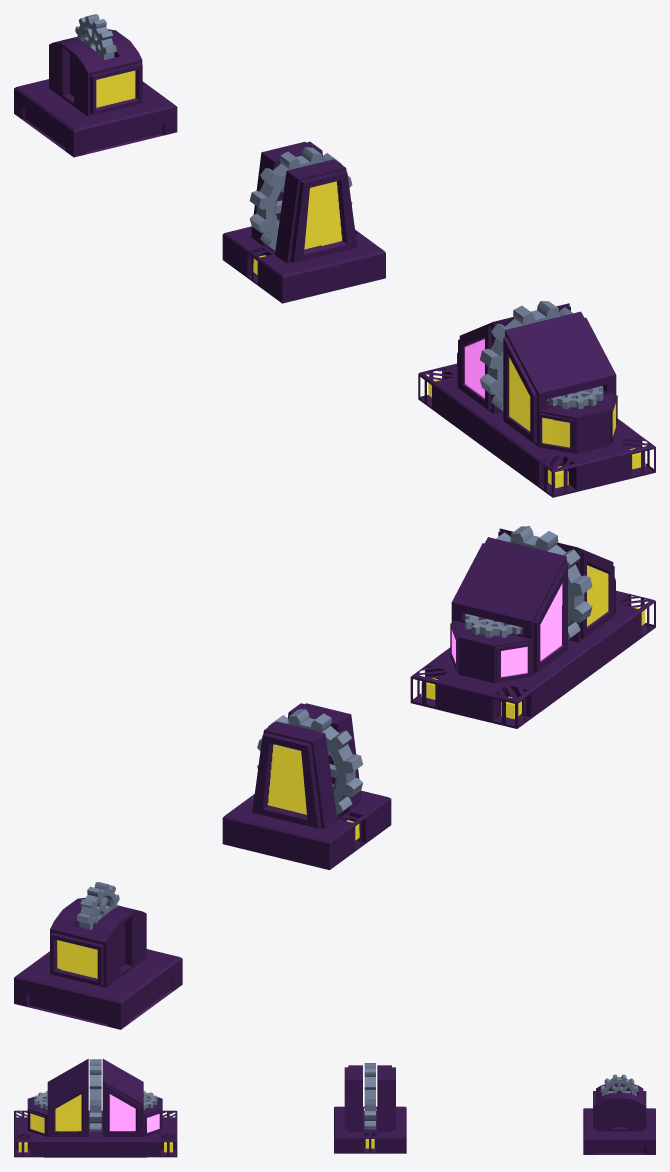
The model's file is Generators_pack_V2_UVFix.gltf.
3 views of the same model, one above another, from view 1: azimuth 30°, elevation 25°; view 2: azimuth 150°, elevation 25°; view 3: azimuth 270°, elevation 25° (orthographic). The views are drawn at different scales.
Parts seen in each view (by area): view 1: Gen_3, Gen_2, Gen_1; view 2: Gen_3, Gen_2, Gen_1; view 3: Gen_3, Gen_2, Gen_1.
Boxes of the visible parts, <box> form: Gen_3: <box>418,301,655,497</box>; Gen_2: <box>222,141,385,303</box>; Gen_1: <box>14,14,177,157</box>; Gen_3: <box>410,526,655,728</box>; Gen_2: <box>222,703,391,870</box>; Gen_1: <box>14,882,182,1029</box>; Gen_3: <box>14,1058,177,1157</box>; Gen_2: <box>334,1063,406,1153</box>; Gen_1: <box>583,1074,655,1154</box>.
Size of the model in its own units: 0.8766 by 0.9595 by 7.07.
4 materials, 4 textured.
